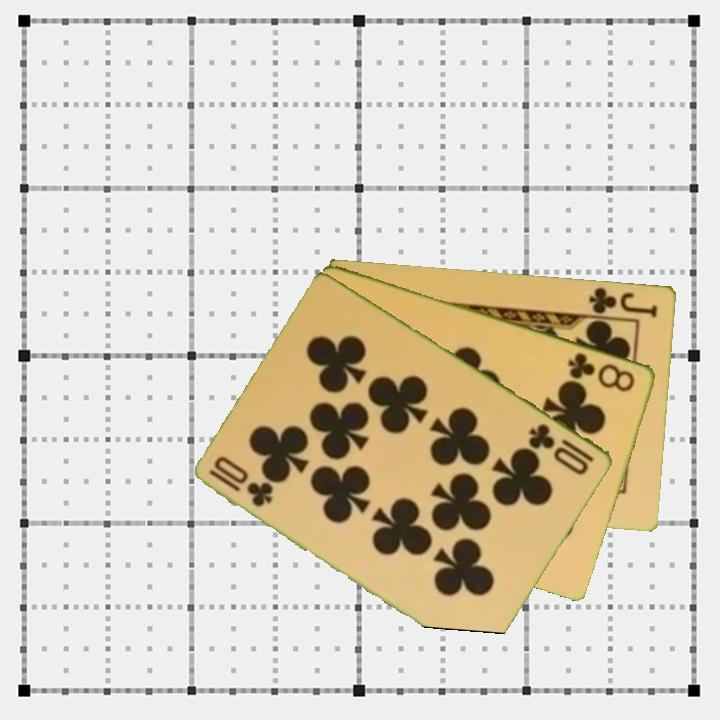10c: (525, 419, 598, 478), (206, 465, 277, 510)
8c: (564, 349, 639, 395)
Jc: (586, 283, 661, 320)
